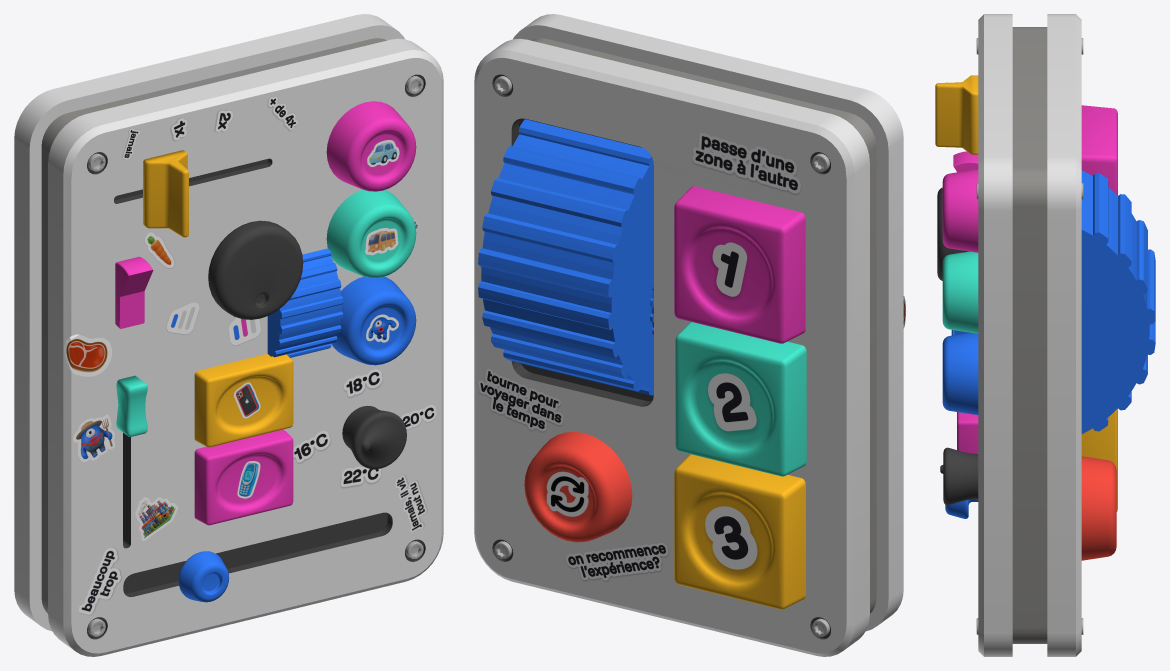
The model's file is config-last-good.glb.
The picture shows the model from 3 angles, left to right: view 1: azimuth 30°, elevation 25°; view 2: azimuth 150°, elevation 25°; view 3: azimuth 270°, elevation 25°; orthographic projection. The views are drawn at different scales.
Visible parts, largest first — view 1: object.001, 3, 6a, 6b, 2a, Gear-full, 2b, 2c, 1, 7, 4, 8 (+16 smaller); view 2: object.001, Gear-half, pos-c, pos-b, pos-a, reset, Empty.023, Empty.029, Empty.024, stickz3, stickz2, stickz1 (+1 smaller); view 3: object.001, Gear-half, reset, 1, 2c, 2b, 2a, pos-c, 7, pos-a, 6b, 3 (+2 smaller).
Boxes of the visible parts, bbox=[...] form: object.001: bbox=[14, 14, 443, 656]; 3: bbox=[208, 220, 303, 319]; 6a: bbox=[194, 354, 293, 447]; 6b: bbox=[194, 429, 293, 525]; 2a: bbox=[326, 101, 416, 191]; Gear-full: bbox=[267, 248, 343, 357]; 2b: bbox=[326, 189, 416, 278]; 2c: bbox=[331, 276, 416, 365]; 1: bbox=[143, 150, 188, 237]; 7: bbox=[342, 406, 406, 469]; 4: bbox=[115, 256, 153, 328]; 8: bbox=[178, 551, 229, 602]; object.001: bbox=[474, 14, 903, 656]; Gear-half: bbox=[478, 119, 653, 395]; pos-c: bbox=[674, 186, 805, 343]; pos-b: bbox=[675, 322, 806, 476]; pos-a: bbox=[674, 454, 805, 609]; reset: bbox=[524, 432, 632, 542]; Empty.023: bbox=[692, 132, 801, 193]; Empty.029: bbox=[478, 368, 563, 431]; Empty.024: bbox=[565, 542, 668, 580]; stickz3: bbox=[705, 506, 757, 571]; stickz2: bbox=[708, 373, 756, 433]; stickz1: bbox=[712, 242, 747, 298]; object.001: bbox=[978, 14, 1081, 656]; Gear-half: bbox=[1081, 170, 1155, 433]; reset: bbox=[1081, 456, 1116, 560]; 1: bbox=[935, 75, 978, 154]; 2c: bbox=[942, 332, 978, 414]; 2b: bbox=[942, 251, 978, 333]; 2a: bbox=[942, 169, 978, 252]; pos-c: bbox=[1081, 105, 1117, 195]; 7: bbox=[940, 447, 978, 505]; pos-a: bbox=[1081, 408, 1117, 511]; 6b: bbox=[957, 412, 978, 453]; 3: bbox=[937, 187, 968, 280].
Bounding box in the file's own units: 12.82 × 16.97 × 6.83.
Materials: 42 (30 with a texture image).
